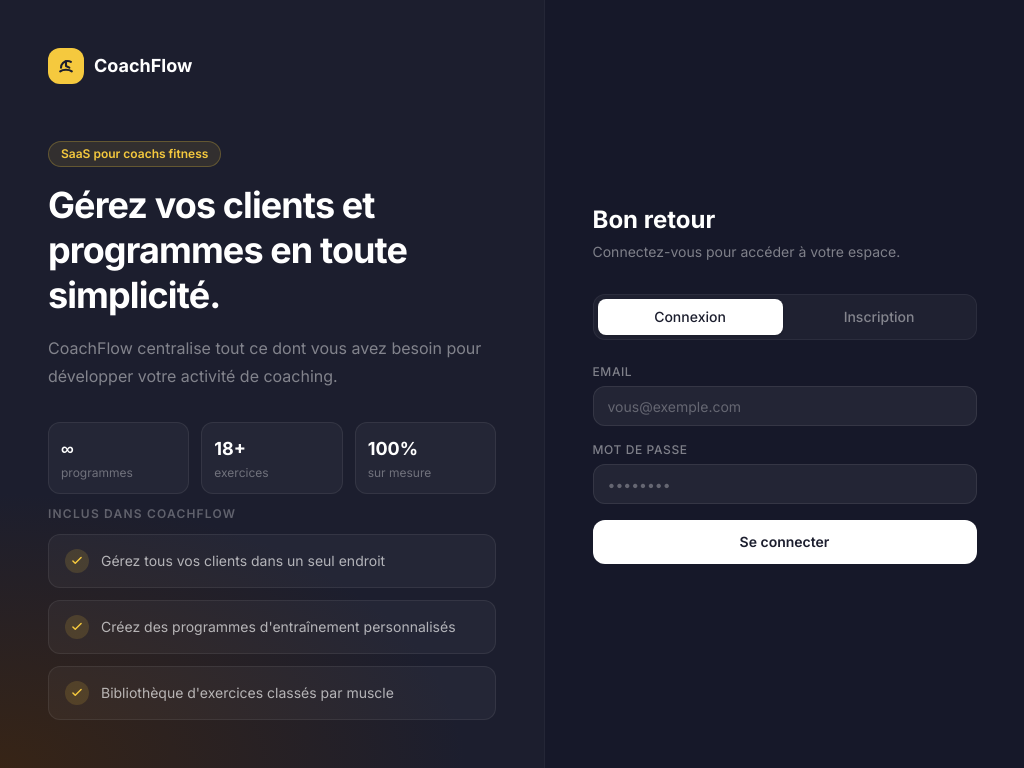
Test case: AuthPage › revient au formulaire de connexion après avoir cliqué sur Connexion
The image size is (1024, 768).
Click the button "Inscription" at (879, 317), box [786,299,972,335]
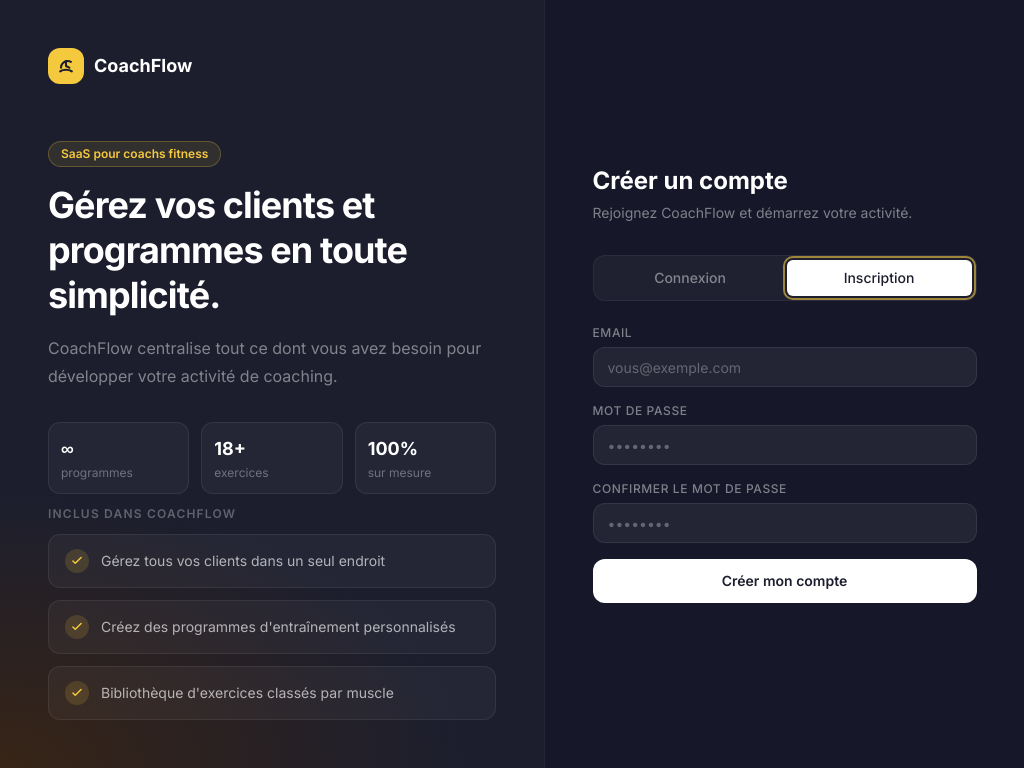
Click the button "Connexion" at (690, 278), box [598,260,782,296]
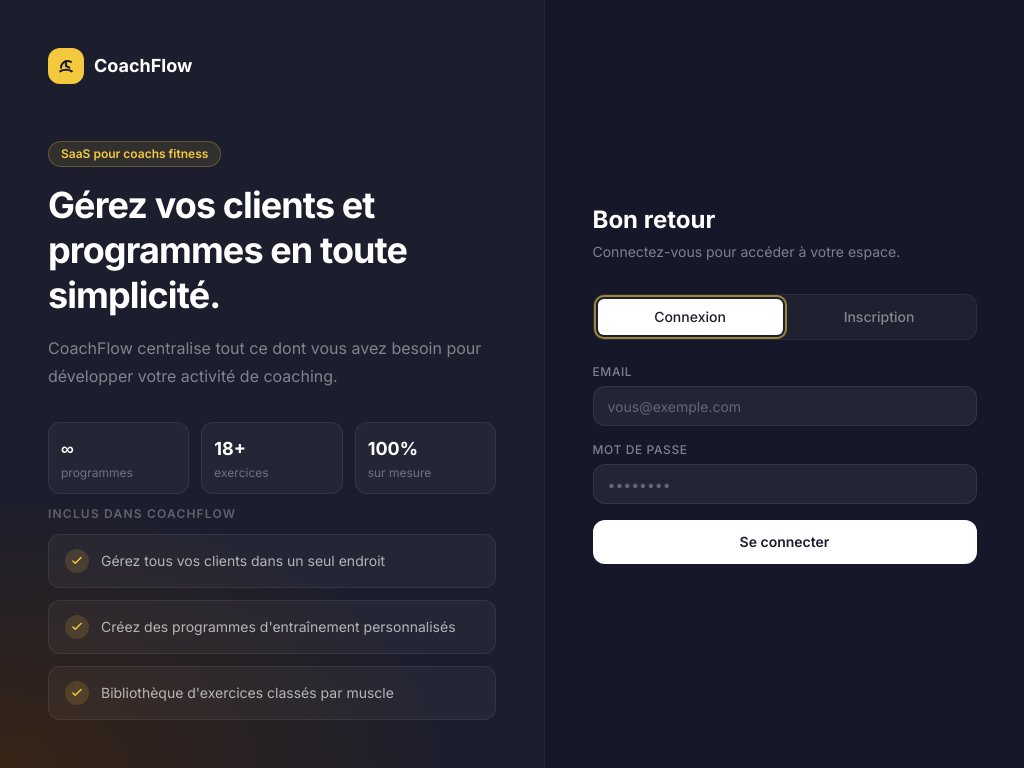
Now the button "Se connecter" is shown, box [592,520,976,564]
